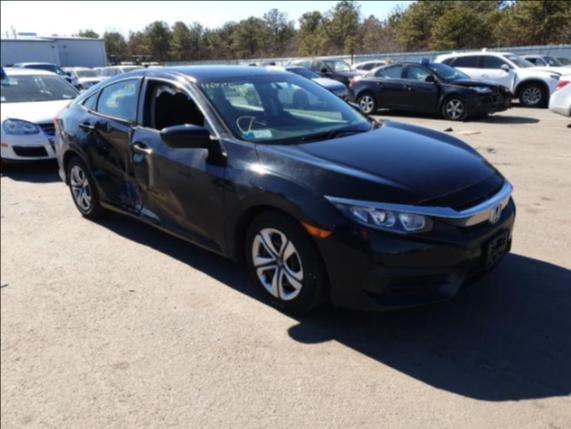Broken part: (127, 122, 144, 212)
Dent: (79, 121, 223, 250)
Missing part: (142, 79, 215, 136), (487, 230, 509, 264)
